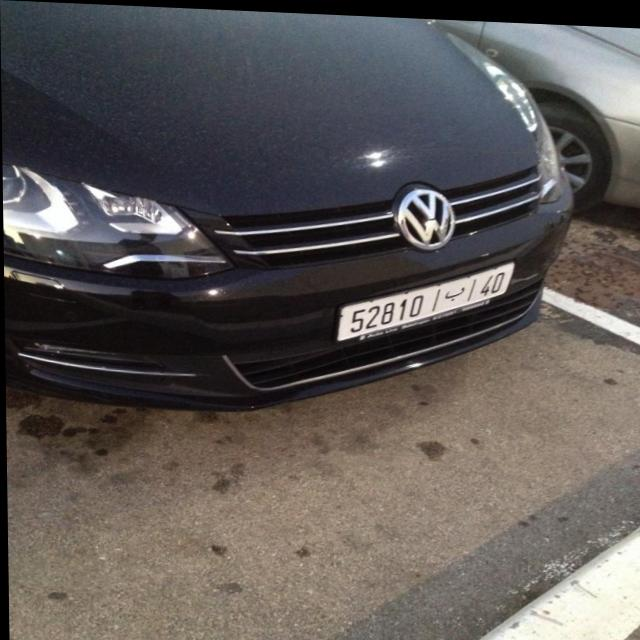License-Plate: (339, 259, 514, 338)
